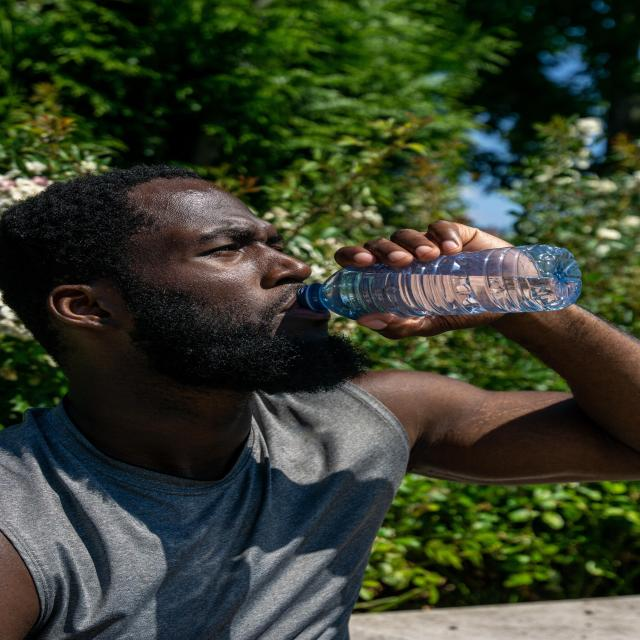bottle: (288, 258, 598, 318)
